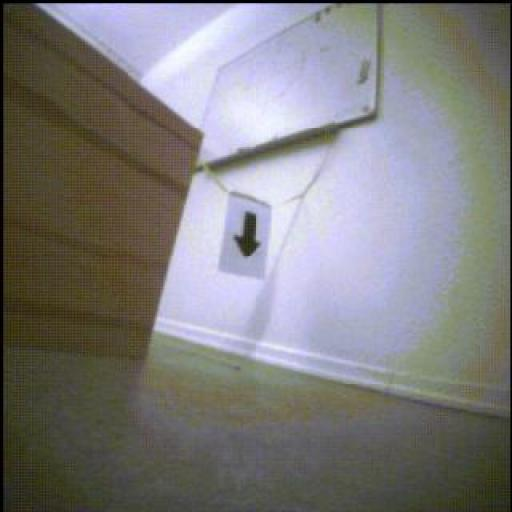Arrow: (235, 212, 262, 259)
